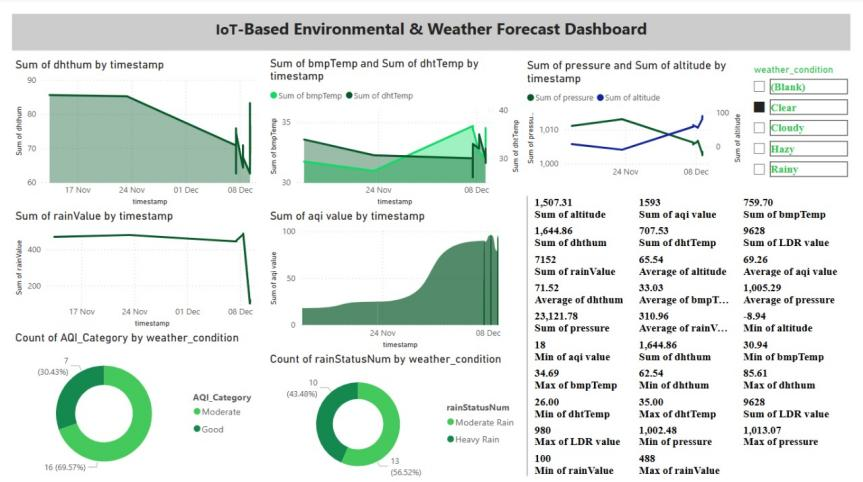

Layout of this report page (visuals, bound fields, positions):
{"tool":"powerbi","page":{"name":"power Bi ","canvas":[1280,720],"ordinal":0},"visuals":[{"type":"textbox","box":[18.7,23.4,1241,54.6],"z":0},{"type":"stackedAreaChart","fields":{"Category":["both.timestamp"],"Y":["Sum(both.dhthum)"]},"box":[18.6,88.4,376.7,224.4],"z":1000},{"type":"areaChart","fields":{"Category":["both.timestamp"],"Y":["Sum(both.bmpTemp)"],"Y2":["Sum(both.dhtTemp)"]},"box":[395.3,86,380.2,226.7],"z":2000},{"type":"ribbonChart","fields":{"Category":["both.timestamp"],"Y":["Sum(both.aqi value)"]},"box":[395.3,312.8,367.4,211.6],"z":3000},{"type":"lineChart","fields":{"Category":["both.timestamp"],"Y":["Sum(both.pressure)"],"Y2":["Sum(both.altitude)"]},"box":[775.6,89.5,327.9,186],"z":4000},{"type":"lineChart","fields":{"Category":["both.timestamp"],"Y":["Sum(both.rainValue)"]},"box":[18.6,312.8,376.7,180.2],"z":5000},{"type":"donutChart","title":"Count of AQI_Category by weather_condition","fields":{"Category":["both.AQI_Category"],"Y":["CountNonNull(both.AQI_Category)"],"Series":["bo.AQI_Category"]},"box":[18.6,493,376.7,226.7],"z":6000},{"type":"donutChart","title":"Count of rainStatusNum by weather_condition","fields":{"Category":["both.rainStatusNum"],"Y":["CountNonNull(both.rainStatusNum)"],"Series":["bo.rainStatusNum"]},"box":[395.3,524.4,380.2,195.3],"z":7000},{"type":"slicer","fields":{"Values":["both.weather_condition"]},"box":[1103.5,91.9,157,183.7],"z":8000},{"type":"multiRowCard","fields":{"Values":["Sum(both.altitude)","Sum(both.aqi value)","Sum(both.bmpTemp)","Sum(both.dhthum)","Sum(both.dhtTemp)","Sum(both.LDR value)","Sum(both.rainValue)","Avg(both.altitude)","Avg(both.aqi value)","Avg(both.dhthum)","Avg(both.bmpTemp)","both.pressure1"]},"box":[775.6,288.4,484.9,431.4],"z":9000}]}

Visuals, with their boxes in screenshot pixels (x1, y1, x2, y2), scaled from the page's 1280x720 canvas onto the 863x482 screenshot:
textbox: {"left": 13, "top": 16, "right": 849, "bottom": 52}
stackedAreaChart - both.timestamp x Sum(both.dhthum): {"left": 13, "top": 59, "right": 267, "bottom": 209}
areaChart - both.timestamp x Sum(both.bmpTemp): {"left": 267, "top": 58, "right": 523, "bottom": 209}
ribbonChart - both.timestamp x Sum(both.aqi value): {"left": 267, "top": 209, "right": 514, "bottom": 351}
lineChart - both.timestamp x Sum(both.pressure): {"left": 523, "top": 60, "right": 744, "bottom": 184}
lineChart - both.timestamp x Sum(both.rainValue): {"left": 13, "top": 209, "right": 267, "bottom": 330}
"Count of AQI_Category by weather_condition" donutChart: {"left": 13, "top": 330, "right": 267, "bottom": 481}
"Count of rainStatusNum by weather_condition" donutChart: {"left": 267, "top": 351, "right": 523, "bottom": 481}
slicer - both.weather_condition: {"left": 744, "top": 62, "right": 850, "bottom": 184}
multiRowCard - Sum(both.altitude) x Sum(both.aqi value): {"left": 523, "top": 193, "right": 850, "bottom": 481}
